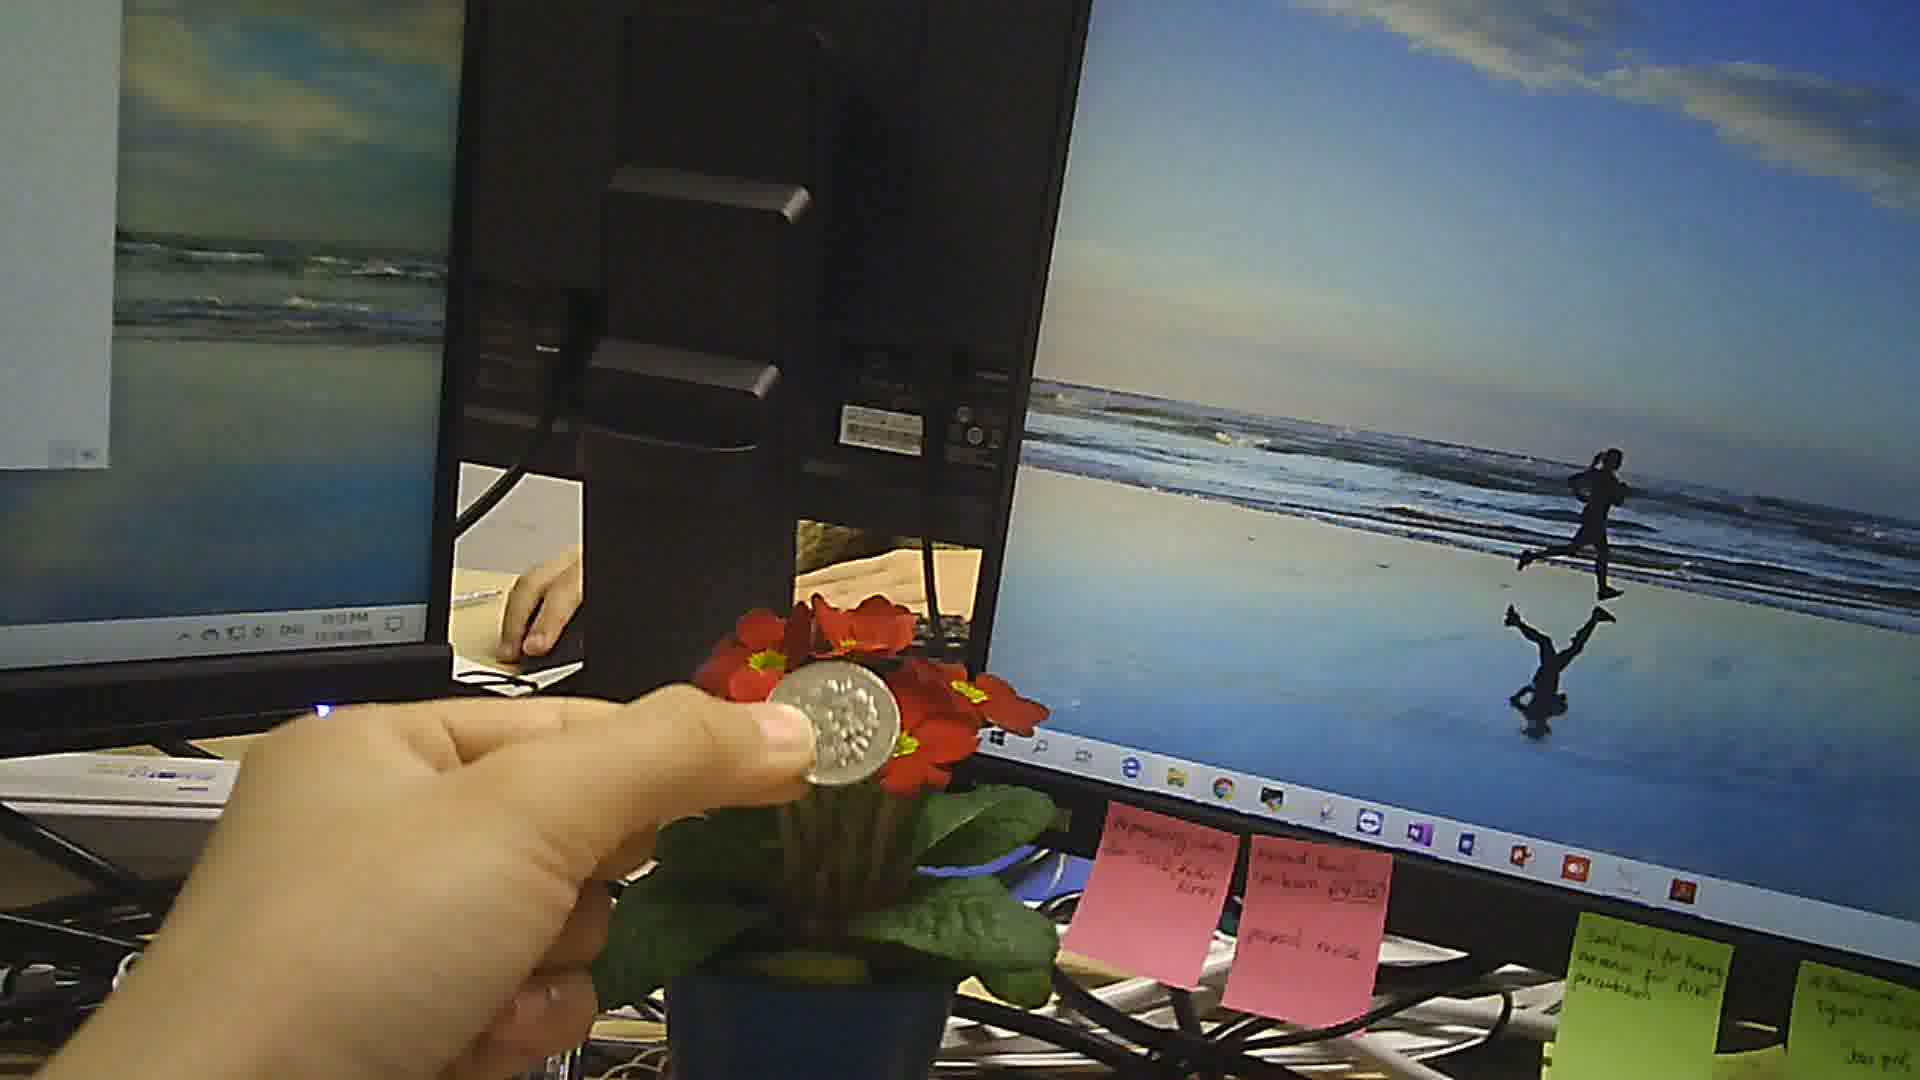100 Yen: (760, 659, 899, 785)
